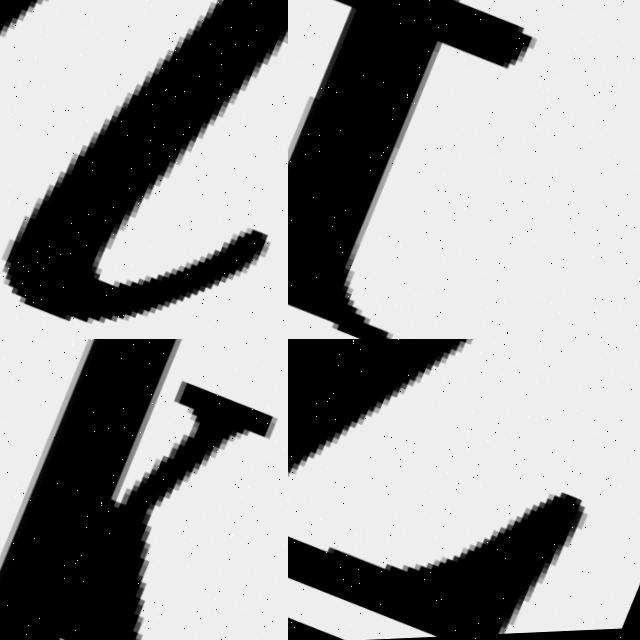F: (288, 0, 535, 339)
K: (0, 339, 288, 640)
N: (0, 0, 288, 339)
Z: (288, 339, 640, 640)
